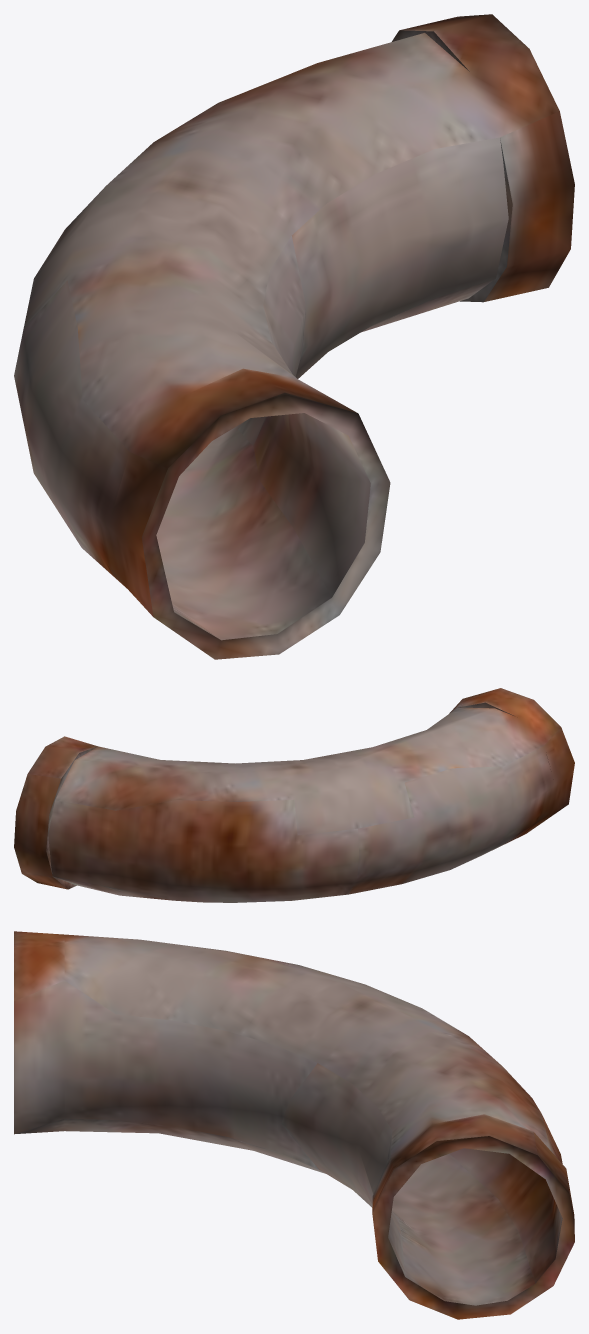
Rendered from small_steel_pipe_03.glb.
The picture shows the model from 3 angles, top to bottom: view 1: azimuth 30°, elevation 25°; view 2: azimuth 150°, elevation 25°; view 3: azimuth 270°, elevation 25°; orthographic projection. The views are drawn at different scales.
Visible parts, largest first — view 1: small_steel_pipe_03; view 2: small_steel_pipe_03; view 3: small_steel_pipe_03.
Part boxes in pixels (<box>): small_steel_pipe_03: <box>14,14,574,659</box>; small_steel_pipe_03: <box>14,688,574,902</box>; small_steel_pipe_03: <box>14,931,574,1319</box>.
Size of what is drawn, in the model's own units: 0.0592 by 0.0215 by 0.0593.
1 material, 1 textured.
